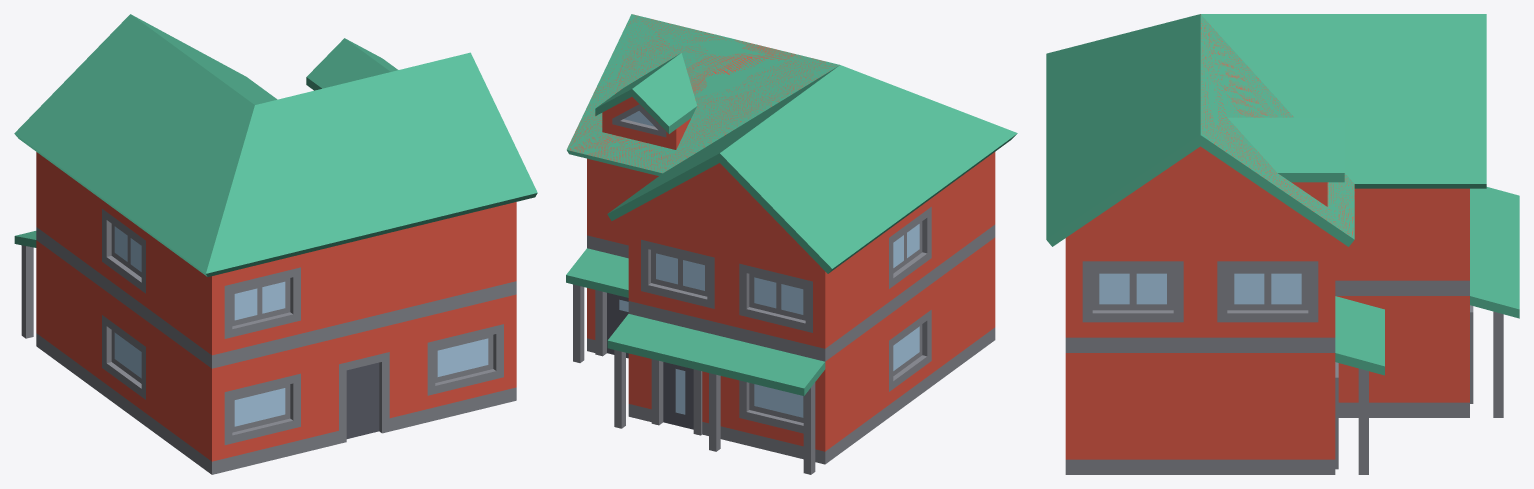
The model's file is house_type02.dae.
The picture shows the model from 3 angles, left to right: view 1: azimuth 30°, elevation 25°; view 2: azimuth 150°, elevation 25°; view 3: azimuth 270°, elevation 25°; orthographic projection. The views are drawn at different scales.
Visible parts, largest first — view 1: house_type02; view 2: house_type02; view 3: house_type02.
Boxes of the visible parts, left/top/right/bottom form: house_type02: left=14, top=14, right=537, bottom=474; house_type02: left=566, top=14, right=1017, bottom=474; house_type02: left=1046, top=14, right=1519, bottom=474.
Size of the model in its own units: 1.31 by 1.14 by 1.41.
